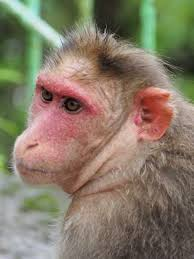monkey: (18, 21, 161, 257)
